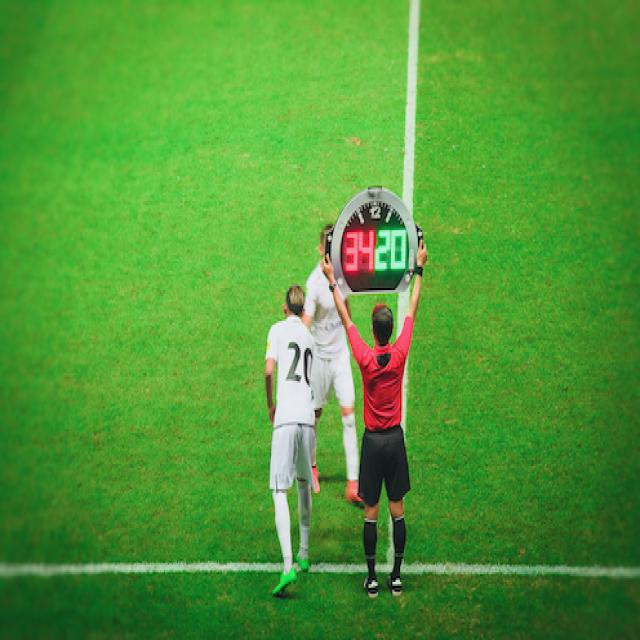substitution: (322, 180, 428, 306)
